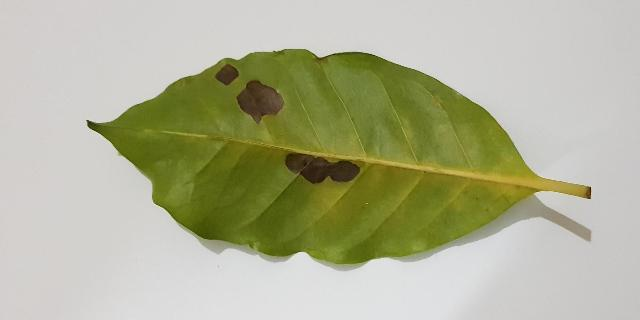cercospora: (285, 152, 360, 184), (237, 80, 284, 123), (216, 65, 239, 85)
